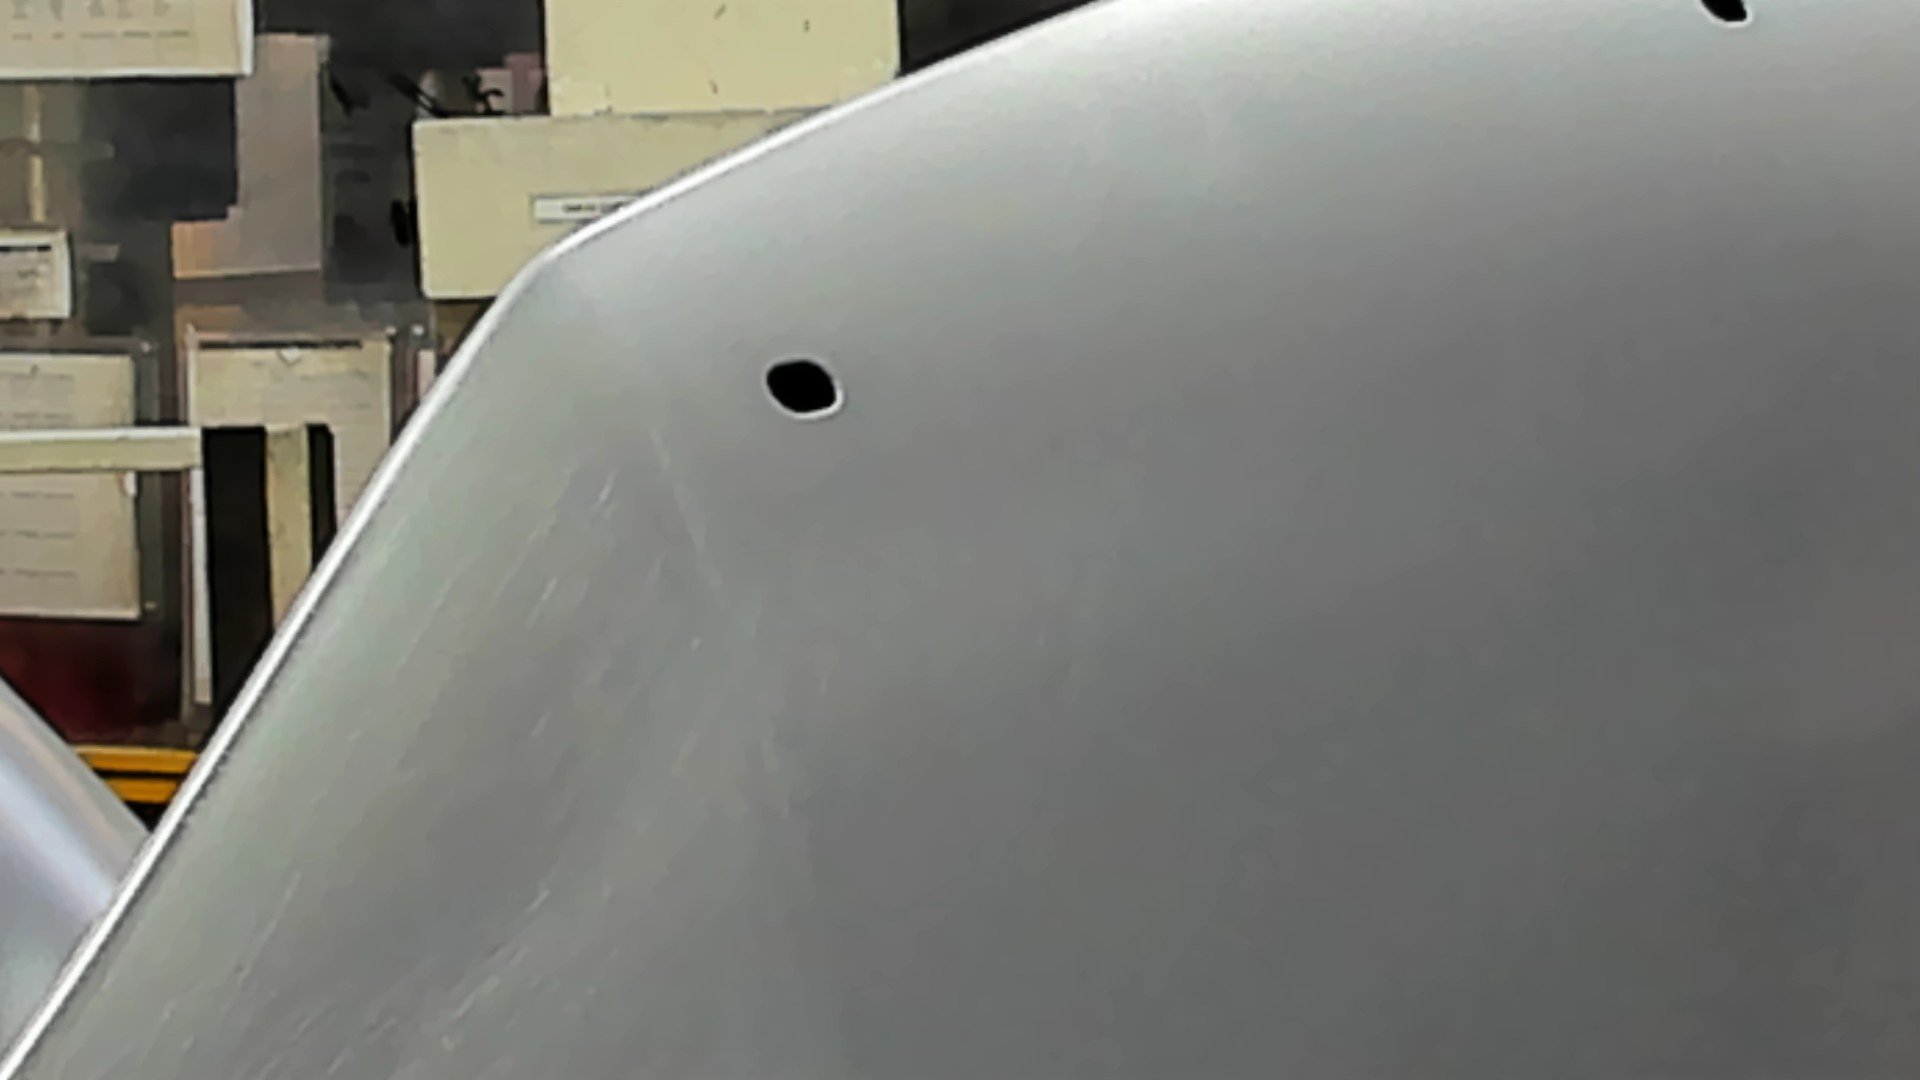amorfo: (761, 349, 845, 419), (1692, 1, 1754, 32)
